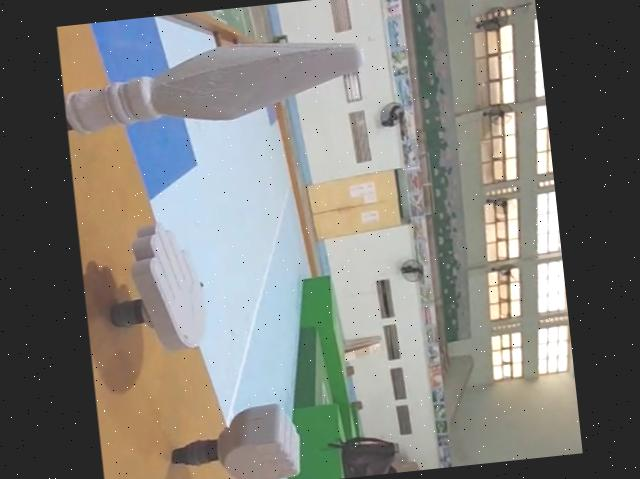Fist: (164, 402, 304, 479)
Hand: (97, 218, 217, 357)
Sph: (60, 24, 369, 133)
